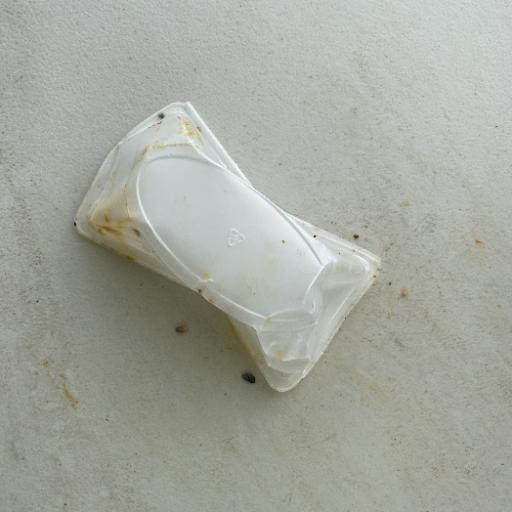Plastic: (71, 98, 383, 394)
